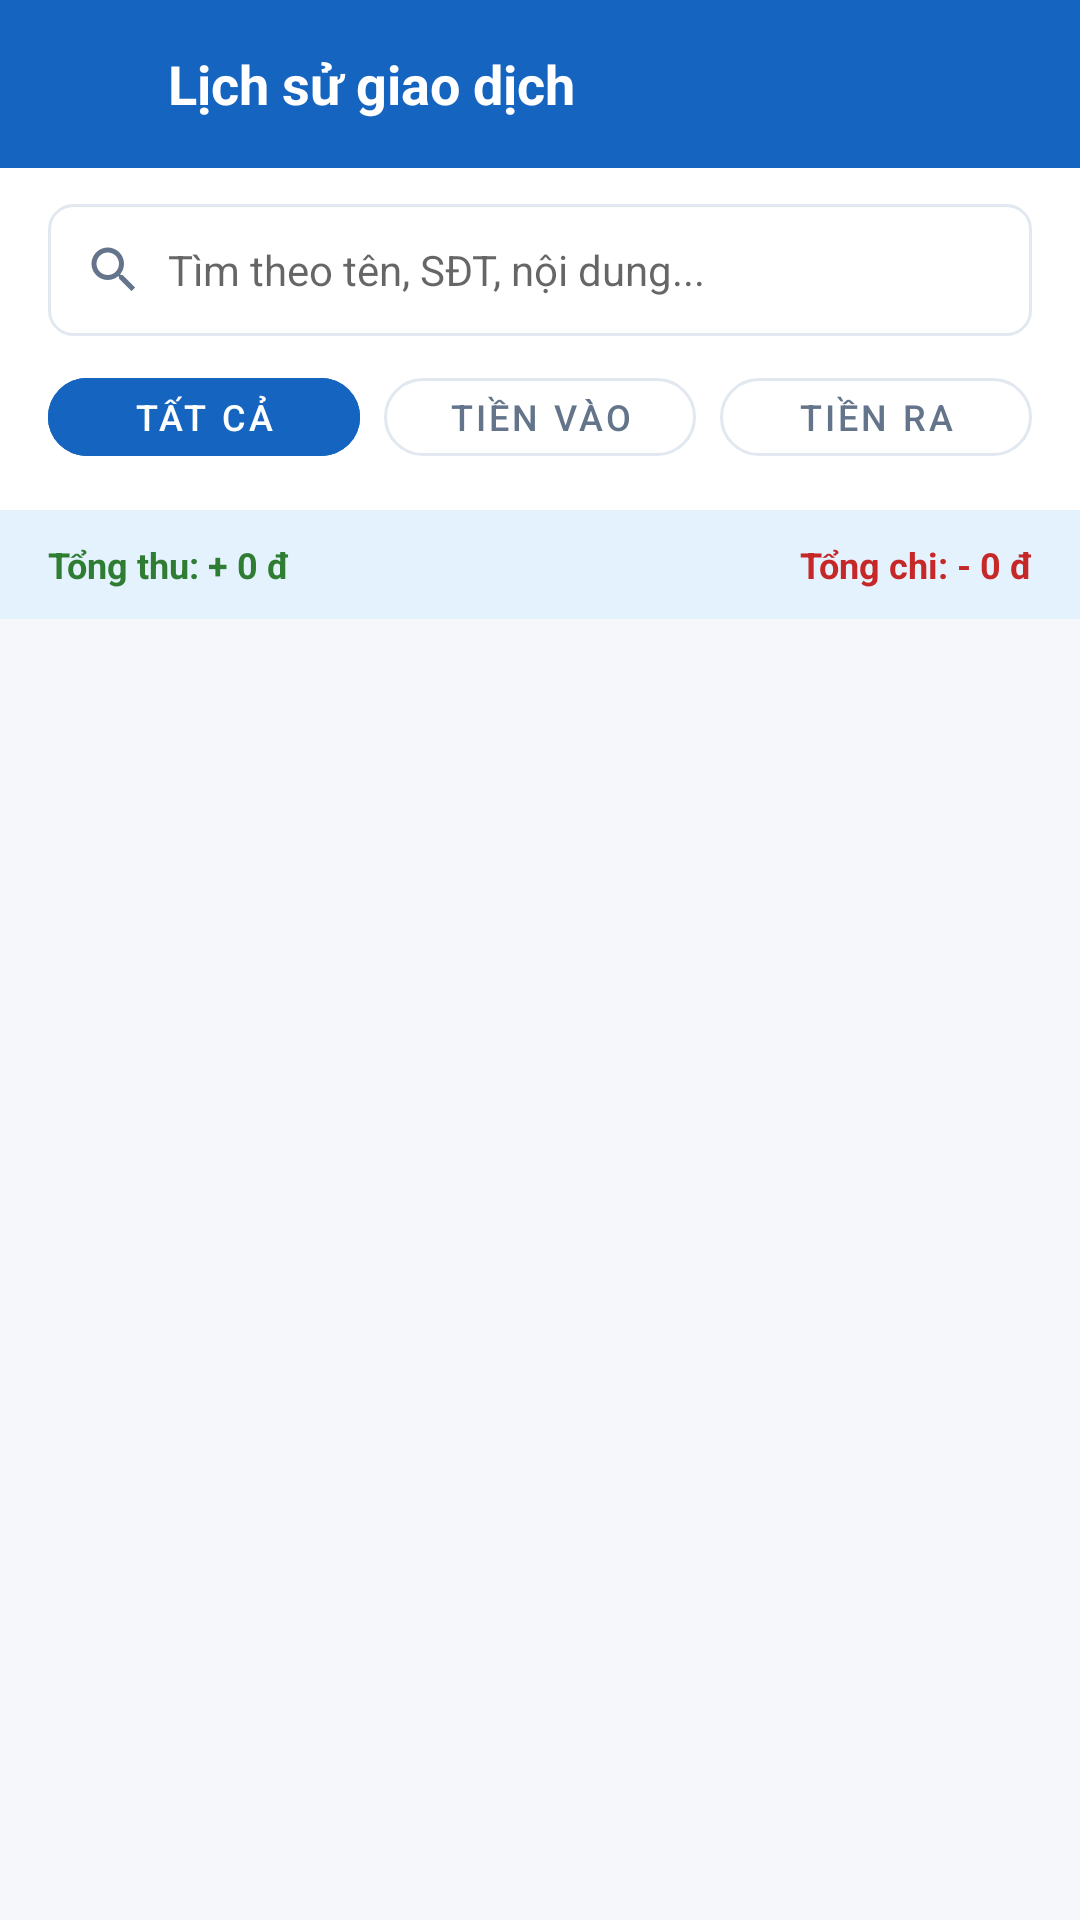

Where icons sit on this 1080px×1920px app screen, as (x1, y1, x2, y2):
search: (91, 247, 135, 291)
